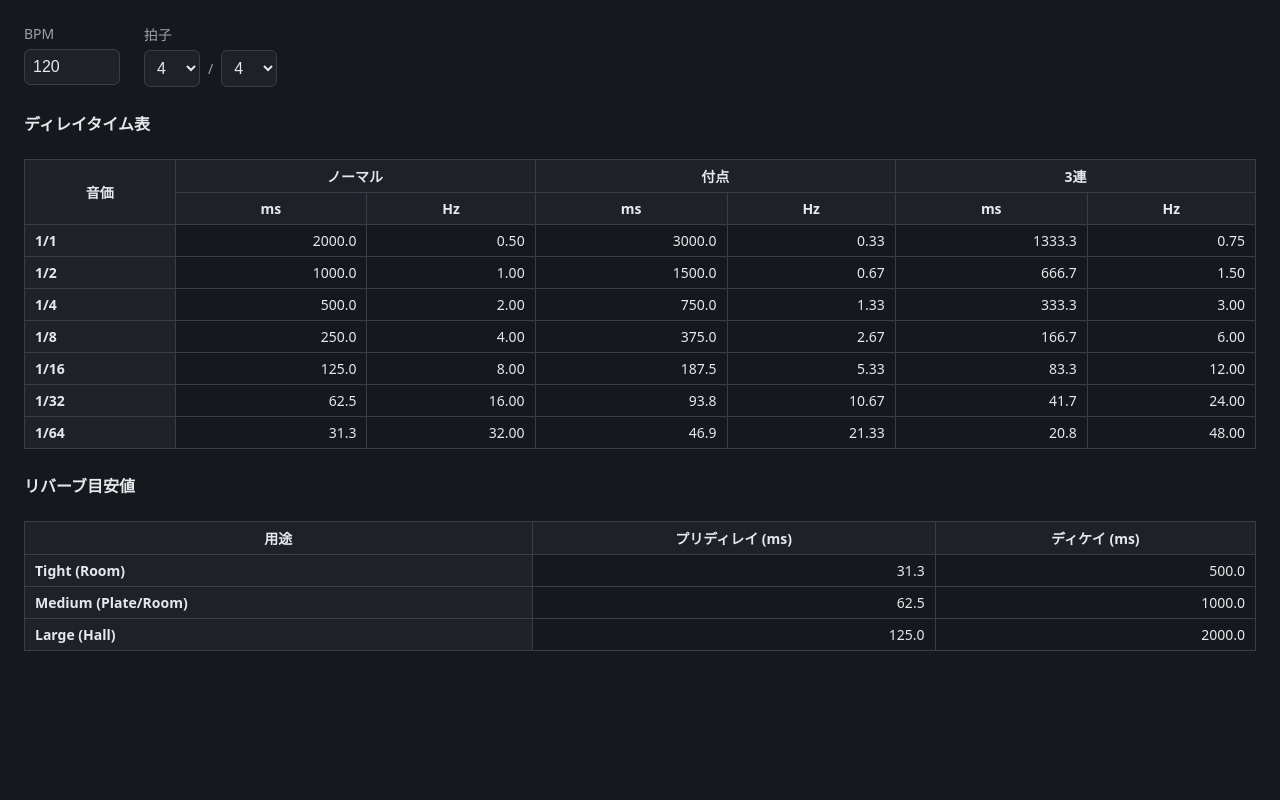
DelayReverbCalculator › recalculates the table when the BPM input changes
The image size is (1280, 800).
Replace the text in the number field labelled "BPM" with "90" at (72, 67), box [24, 49, 120, 85]
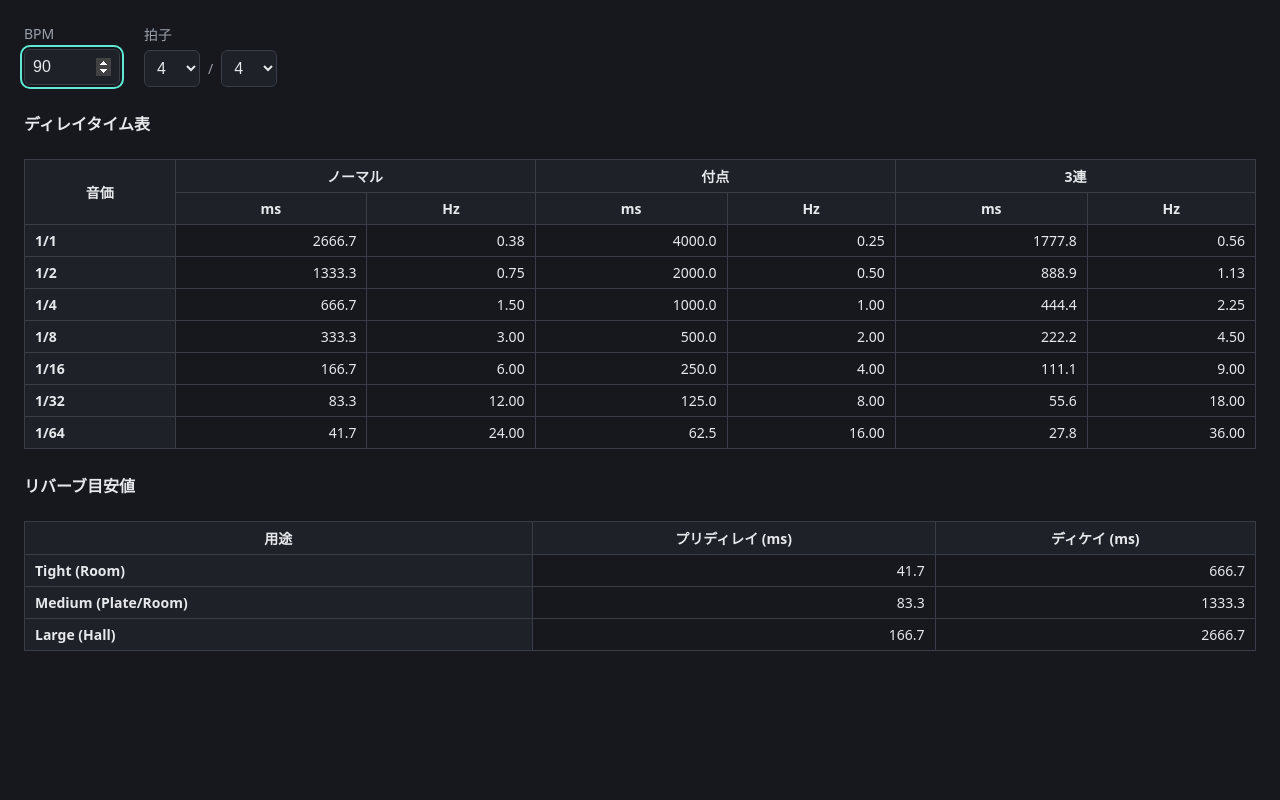
Check: the row "1/4 666.7 1.50 1000.0 1.00 444.4 2.25" is shown, box [24, 288, 1256, 320]
